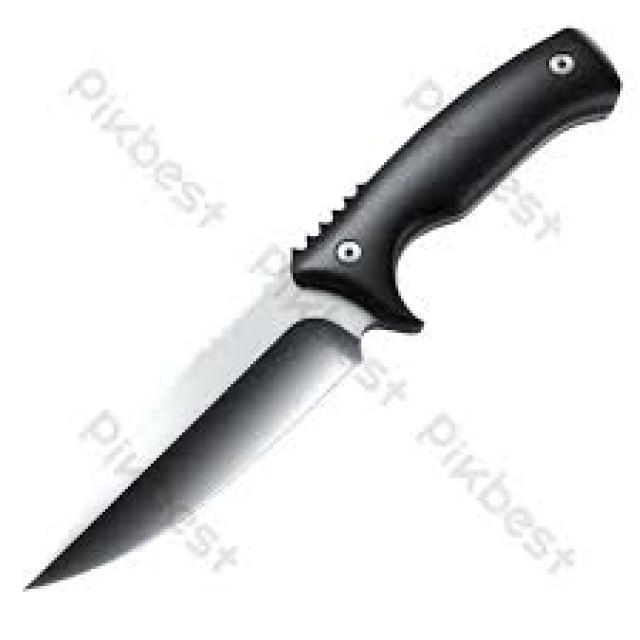Knife: (26, 28, 620, 589)
